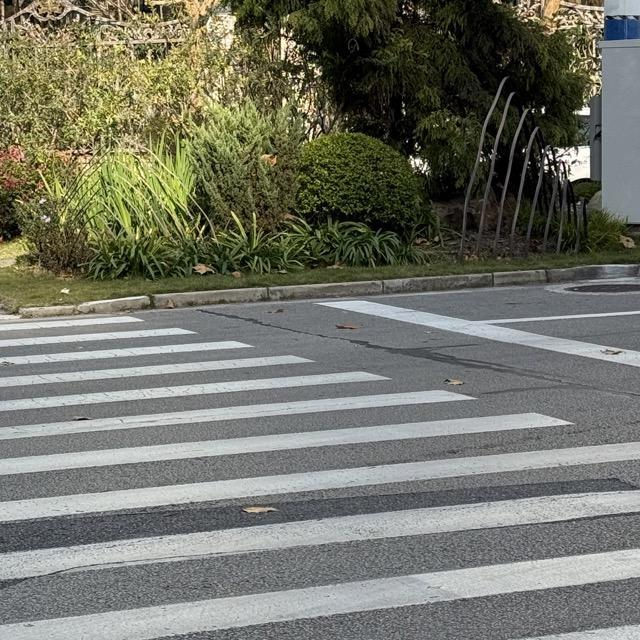curb: (19, 265, 639, 317)
